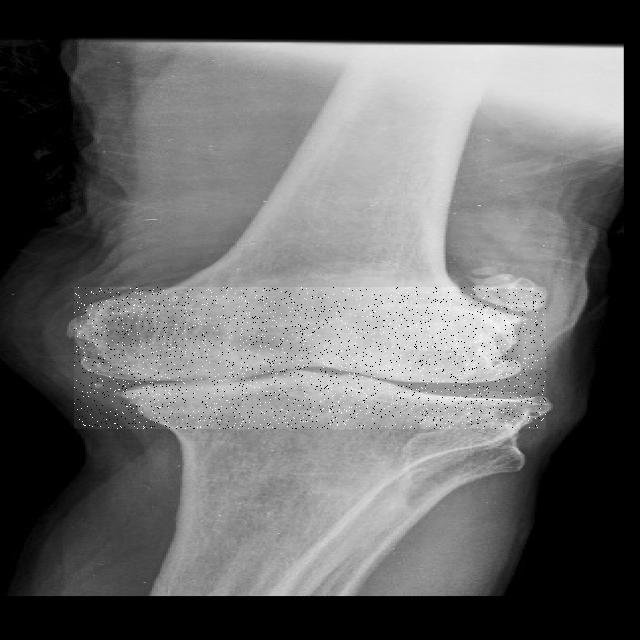osteo: (74, 287, 546, 429)
